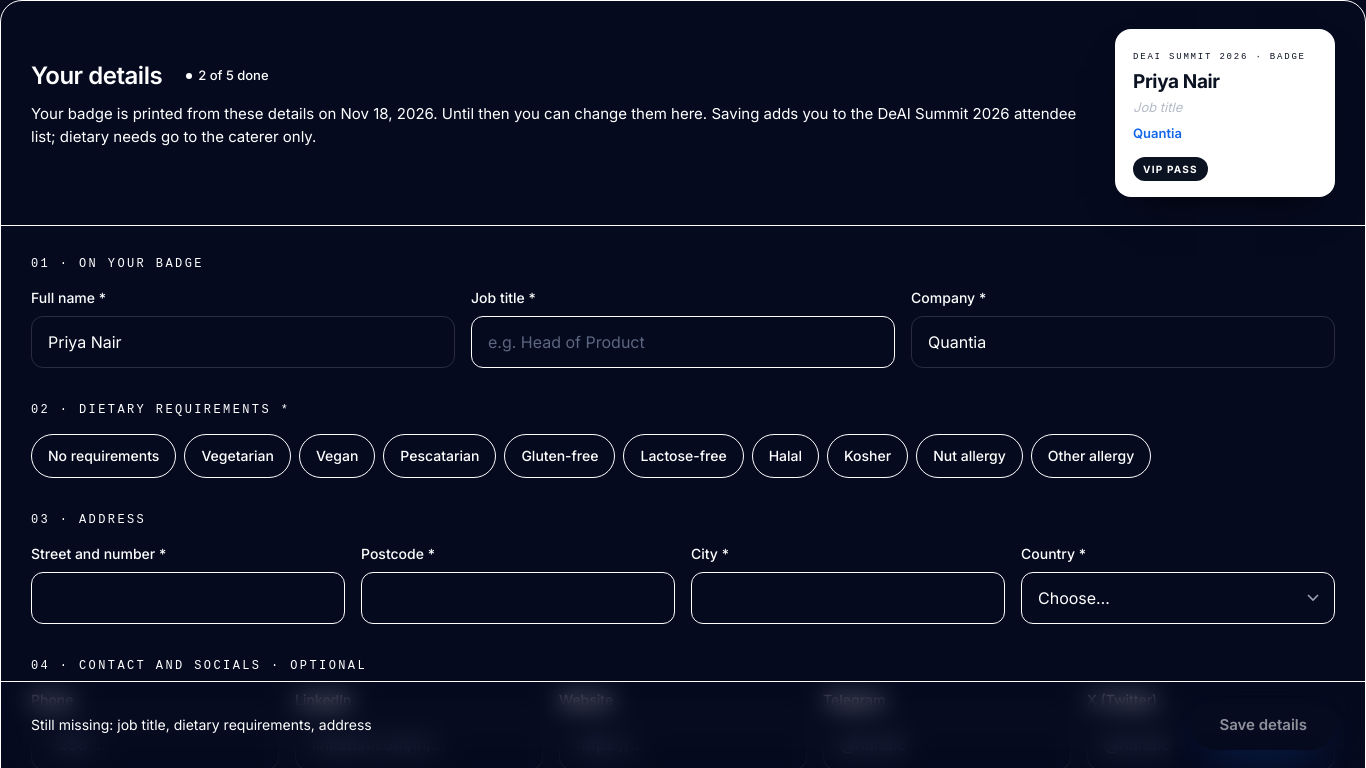
Test: TicketDetailsForm › dietary chips: pressed state, 'No requirements' alone, and the caterer note only with an allergy
Click the button "Vegan" at (337, 456), box [299,434,375,478]
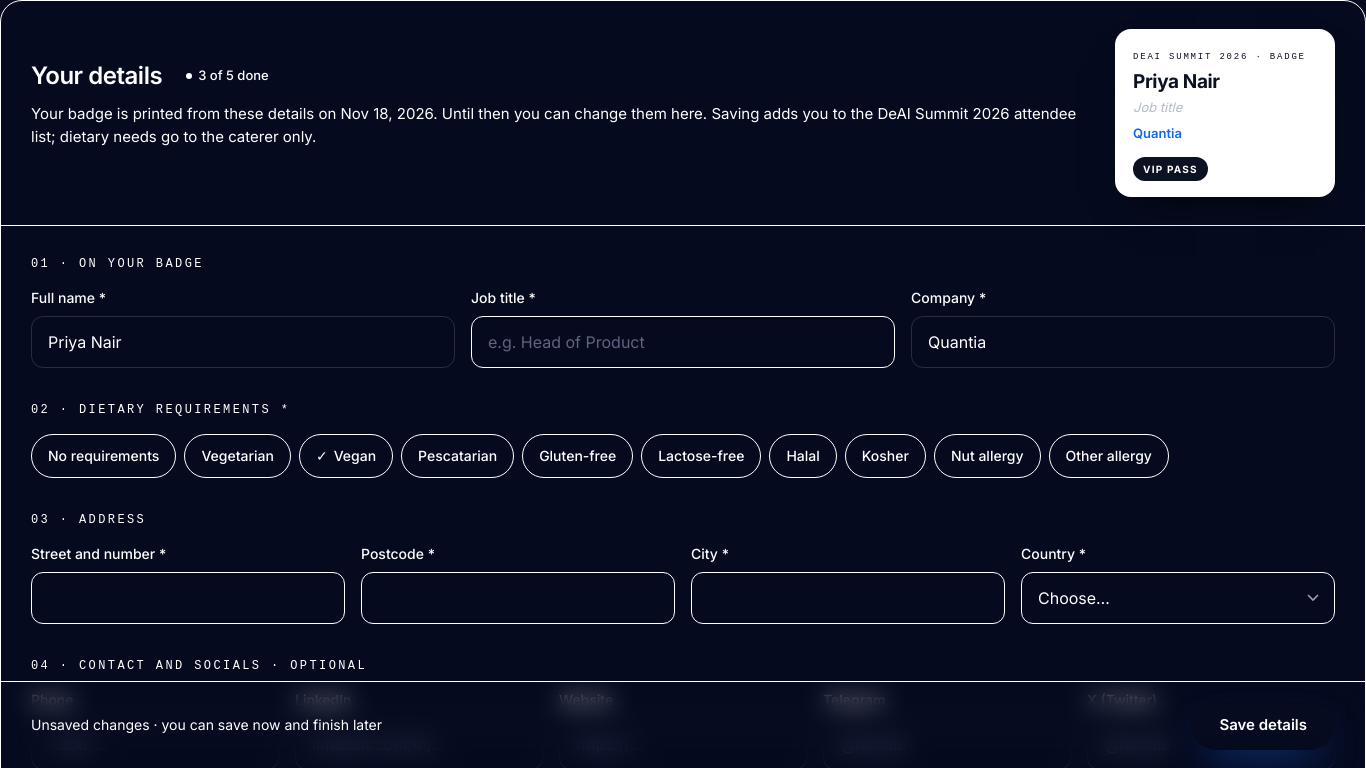
Now the button "✓ Vegan" is pressed, box [299,434,393,478]
Click the button "No requirements" at (104, 456), box [31,434,176,478]
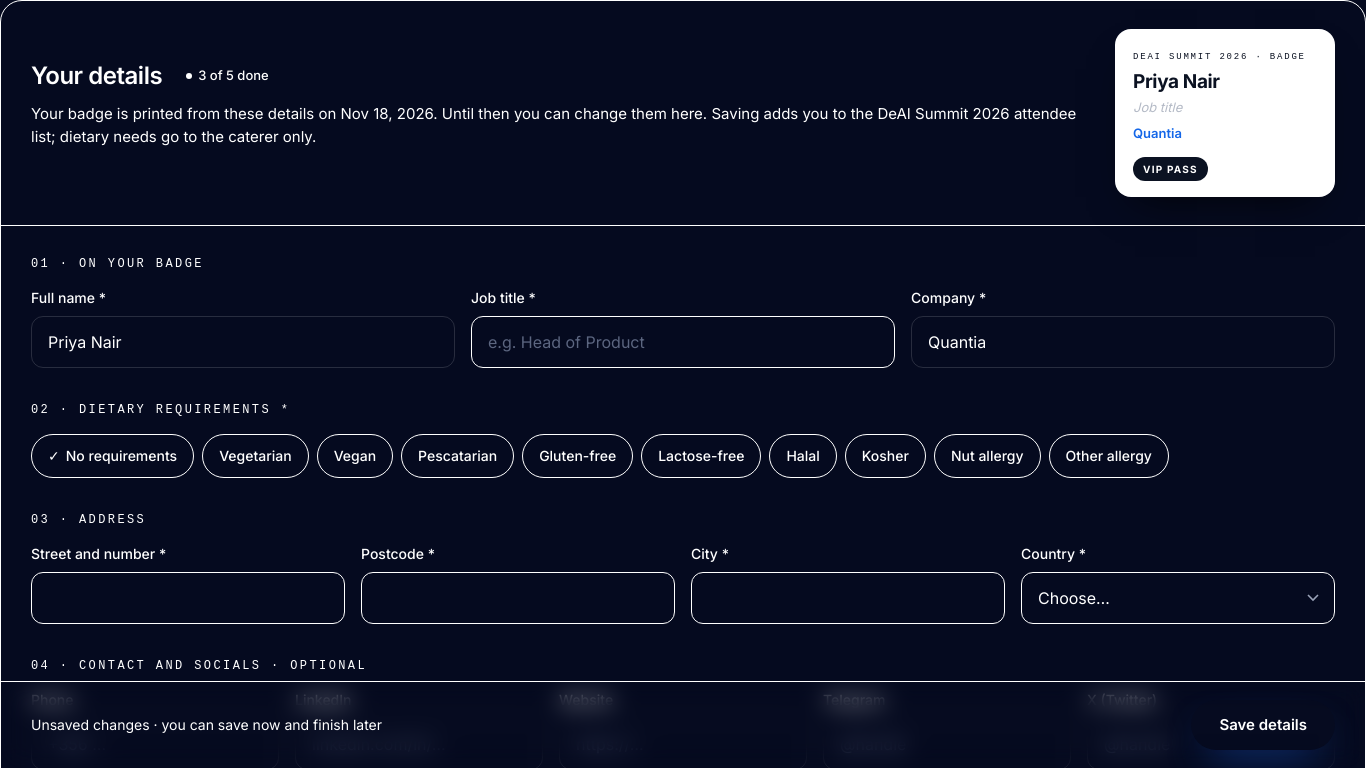
Expected: the field labelled "Tell the caterer more" is not shown
Now the button "✓ No requirements" is pressed, box [31,434,194,478]
Now the button "Vegan" is not pressed, box [317,434,393,478]
Click the button "Nut allergy" at (987, 456), box [934,434,1040,478]
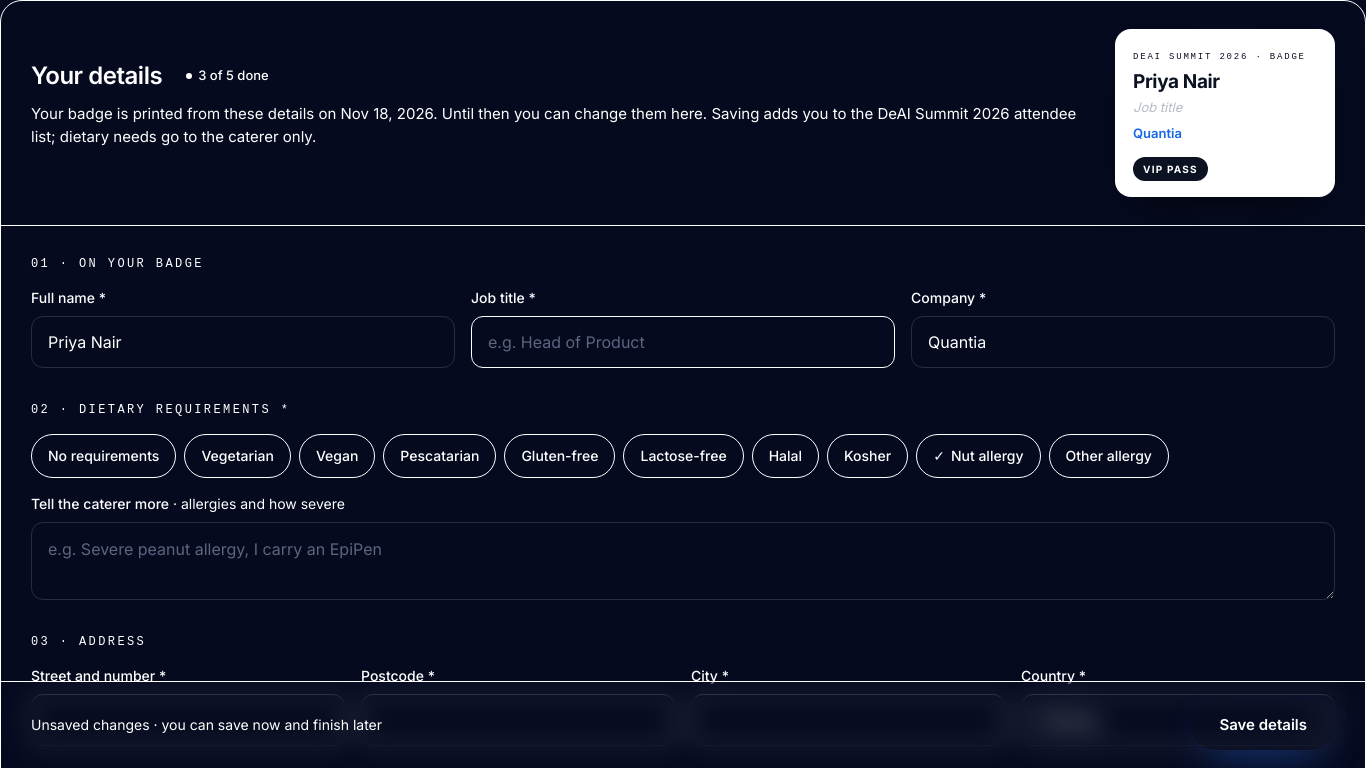
Now the text box labelled "Tell the caterer more · allergies and how severe" is shown, box [31,522,1335,600]
